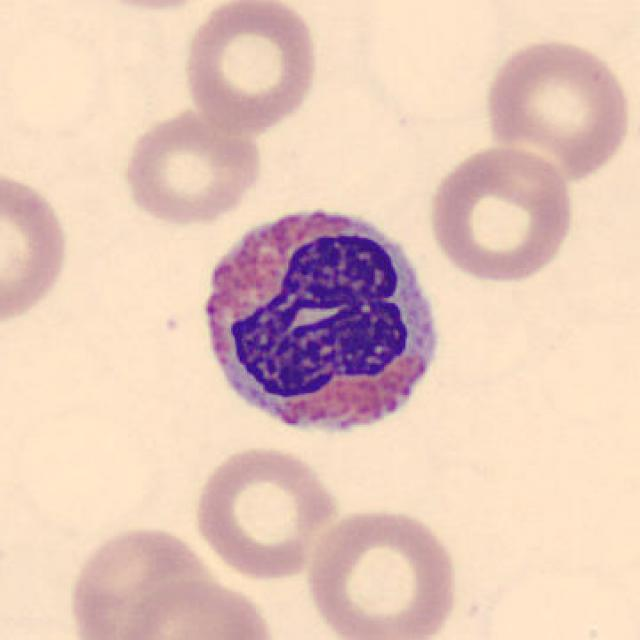Eosinophil: (187, 194, 453, 453)
RBC: (478, 34, 635, 184), (423, 141, 578, 286), (302, 502, 462, 640), (190, 443, 342, 580), (178, 0, 322, 136), (64, 522, 224, 640), (117, 104, 265, 227), (0, 164, 73, 333), (108, 573, 281, 640)
